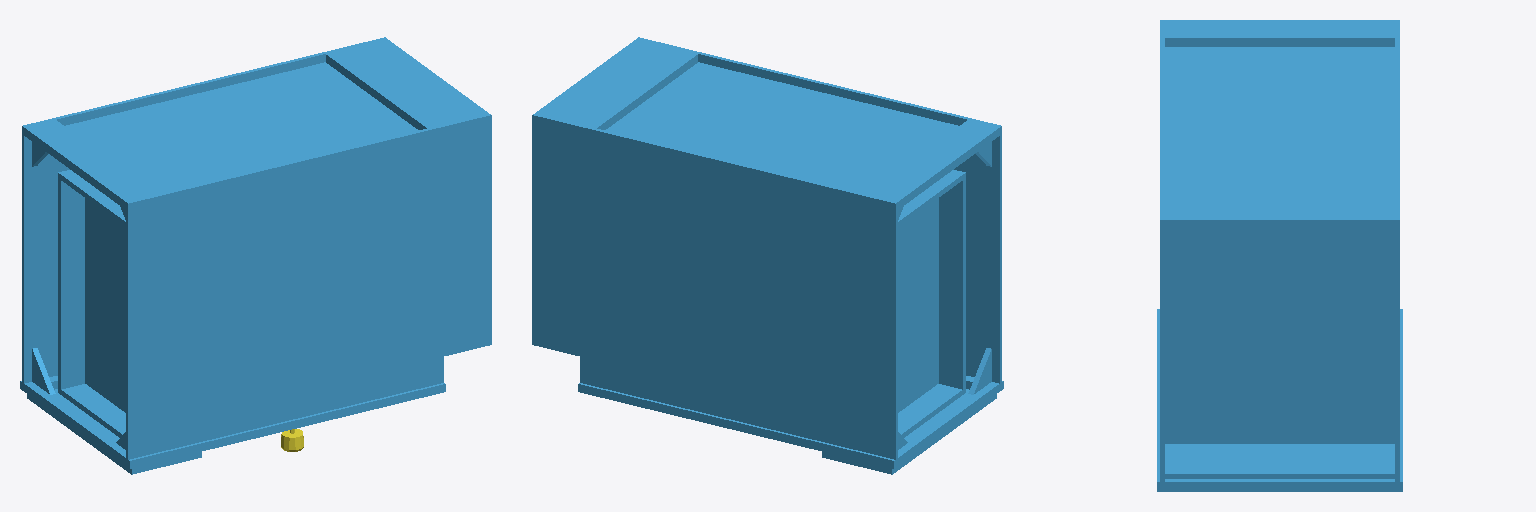
URDF robot description (right-pull-door):
<?xml version="1.0" ?>
<robot name="right-pull-door">
    <mujoco>
        <compiler meshdir="texture_stl" balanceinertia="true" discardvisual="false"/>
    </mujoco>
	<link name="base"/>
	<link name="link_0">
		<visual name="out-frame">
			<origin xyz="0 0 0"/>
			<geometry>
				<mesh filename="texture_stl/frame.stl" scale="0.8 0.8 0.8"/>
			</geometry>
		</visual>
		<collision>
			<origin xyz="0 0 0"/>
			<geometry>
				<mesh filename="texture_stl/frame.stl" scale="0.8 0.8 0.8"/>
			</geometry>
		</collision>
	</link>
	<joint name="joint_0" type="fixed">
		<origin rpy="1.570796326794897 0 -1.570796326794897" xyz="0 0 0"/>
		<child link="link_0"/>
		<parent link="base"/>
	</joint>
	<link name="link_1">
		<visual name="surf-board">
			<origin xyz="0.5625289857387543 -0.3346488366645233 0"/>
			<geometry>
				<mesh filename="texture_stl/board.stl" scale="0.8 0.8 0.8"/>
			</geometry>
		</visual>
		<collision>
			<origin xyz="0.5625289857387543 -0.3346488366645233 0"/>
			<geometry>
				<mesh filename="texture_stl/board.stl" scale="0.8 0.8 0.8"/>
			</geometry>
		</collision>
	</link>
	<joint name="joint_1" type="revolute">
		<origin xyz="-0.5625289857387543 0.3346488366645233 0"/>
		<axis xyz="0 -1 0"/>
		<child link="link_1"/>
		<parent link="link_0"/>
		<limit lower="0" upper="1.5079644737231006"/>
	</joint>
	<link name="link_2">
		<visual name="handle">
			<origin xyz="0 0 0"/>
			<geometry>
				<mesh filename="texture_stl/9962004.stl" scale="1.4596394423432815 1.4596394423432815 1.4596394423432815"/>
			</geometry>
		</visual>
		<collision>
			<origin xyz="0 0 0"/>
			<geometry>
				<mesh filename="texture_stl/9962004.stl" scale="1.4596394423432815 1.4596394423432815 1.4596394423432815"/>
			</geometry>
		</collision>
	</link>
	<joint name="joint_2" type="revolute">
		<origin xyz="0.5625289857387543 -0.3346488366645233 0.013381251637136058"/>
		<child link="link_2"/>
		<parent link="link_1"/>
		<axis xyz="0 0 1"/>
		<limit lower="0" upper="1.5079644737231006"/>
	</joint>
</robot>

--- What the picture shows (computed from the rendered views, not written in the file) ---
3 views of the same robot in one strip: view 1: azimuth 30°, elevation 25°; view 2: azimuth 150°, elevation 25°; view 3: azimuth 270°, elevation 25° (orthographic).
Model right-pull-door with 4 links and 3 joints (2 revolute, 1 fixed), rooted at base, posed every joint at zero.
Links seen in each view (by area): view 1: link_0; view 2: link_0; view 3: link_0.
Link boxes in pixels (x1=…): link_0: x1=20, y1=37, x2=491, y2=474; link_0: x1=532, y1=37, x2=1003, y2=474; link_0: x1=1157, y1=20, x2=1402, y2=491.
Bounding box of the posed robot: 1.23 × 0.6393 × 0.9462 m (x, y, z).
Meshes: 3 distinct files referenced, 2 mesh visuals loaded (2 binary STL); not drawn: 1 (reference not matched to a file when rendering).
